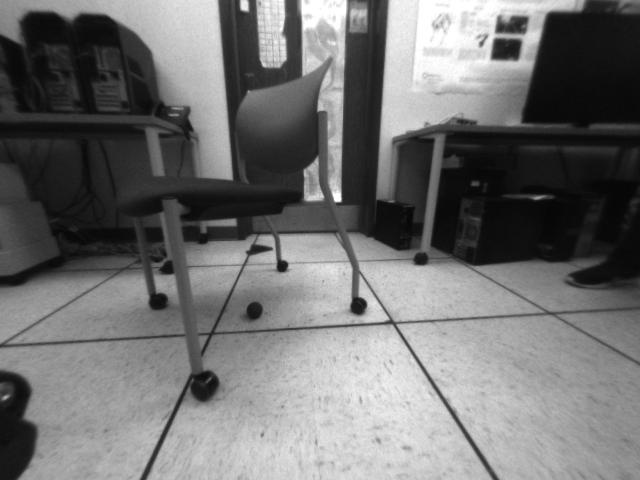dogtoy: (240, 294, 268, 323)
